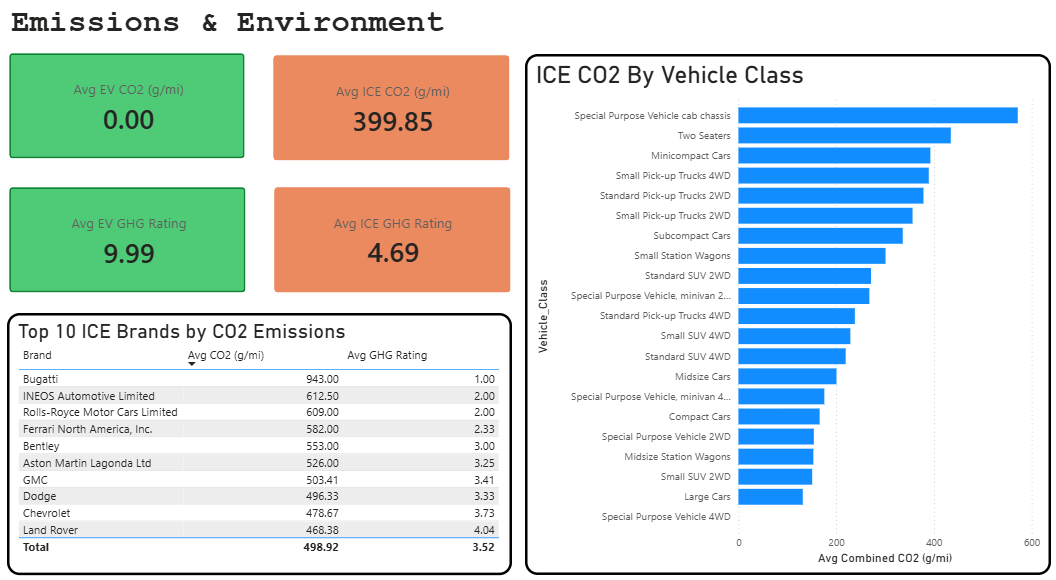

The page's visual inventory and layout, read from the dashboard file:
{"tool":"powerbi","page":{"name":"Emissions & Environment","canvas":[1280,720],"ordinal":3},"visuals":[{"type":"textbox","box":[25,15.5,630.7,63.1],"z":0},{"type":"cardVisual","fields":{"Data":["Avg(Combined_EV_ICE.Combined_CO2)"]},"box":[10.7,60.7,314.2,159.5],"z":1},{"type":"cardVisual","fields":{"Data":["Avg(Combined_EV_ICE.Combined_CO2)"]},"box":[324.9,63.1,315.4,159.5],"z":2},{"type":"cardVisual","fields":{"Data":["Avg(Combined_EV_ICE.GHG_Rating)"]},"box":[10.7,220.2,315.4,159.5],"z":3},{"type":"cardVisual","fields":{"Data":["Avg(Combined_EV_ICE.GHG_Rating)"]},"box":[326.1,220.2,315.4,159.5],"z":4},{"type":"clusteredBarChart","title":"ICE CO2 By Vehicle Class","fields":{"Category":["Combined_EV_ICE.Vehicle_Class"],"Y":["Avg(Combined_EV_ICE.Combined_CO2)"]},"box":[641.5,78.5,626,620],"z":6},{"type":"tableEx","title":"Top 10 ICE Brands by CO2 Emissions","fields":{"Values":["Combined_EV_ICE.Brand","Avg(Combined_EV_ICE.Combined_CO2)","Avg(Combined_EV_ICE.GHG_Rating)"]},"box":[25,386.8,601,311.8],"z":7}]}

Visuals, with their boxes in screenshot pixels (x1, y1, x2, y2), scaled from the page's 1280x720 canvas onto the 1056x580 screenshot:
textbox: Rect(21, 12, 541, 63)
cardVisual - Avg(Combined_EV_ICE.Combined_CO2): Rect(9, 49, 268, 177)
cardVisual - Avg(Combined_EV_ICE.Combined_CO2): Rect(268, 51, 528, 179)
cardVisual - Avg(Combined_EV_ICE.GHG_Rating): Rect(9, 177, 269, 306)
cardVisual - Avg(Combined_EV_ICE.GHG_Rating): Rect(269, 177, 529, 306)
"ICE CO2 By Vehicle Class" clusteredBarChart: Rect(529, 63, 1046, 563)
"Top 10 ICE Brands by CO2 Emissions" tableEx: Rect(21, 312, 516, 563)
